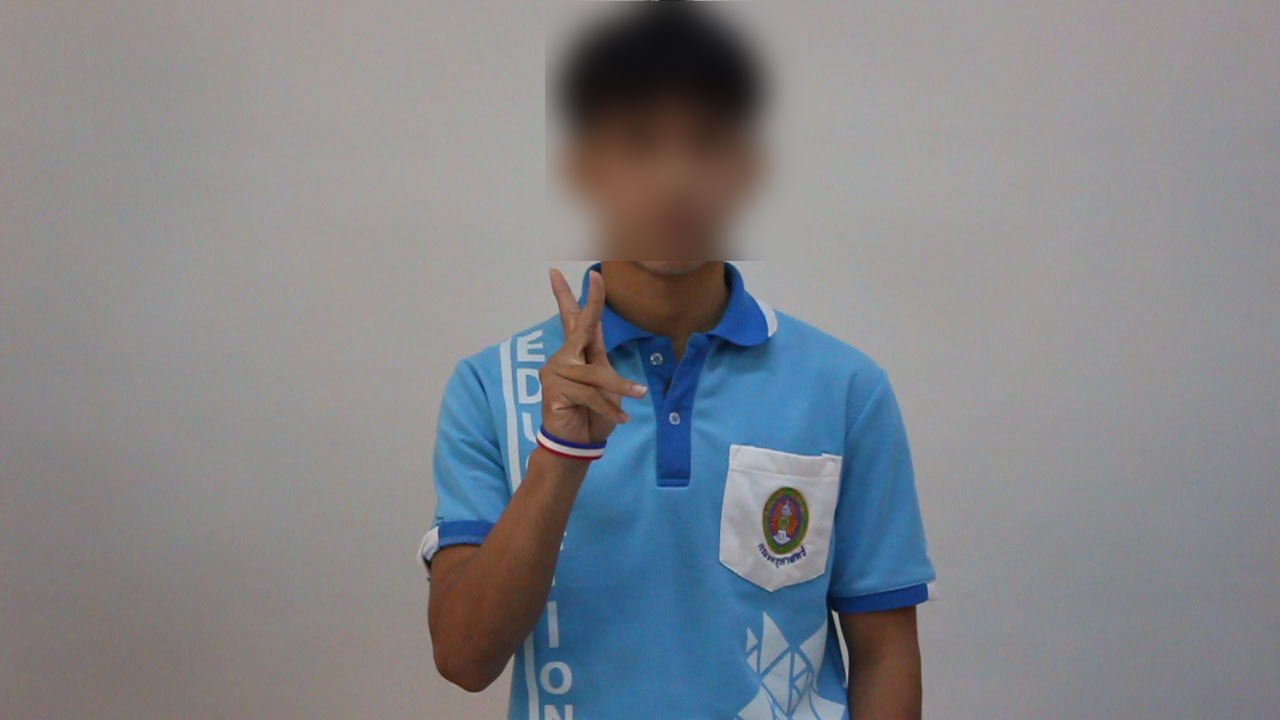ko: (518, 261, 651, 441)
